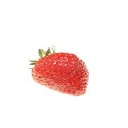strawberry: (29, 48, 90, 96)
